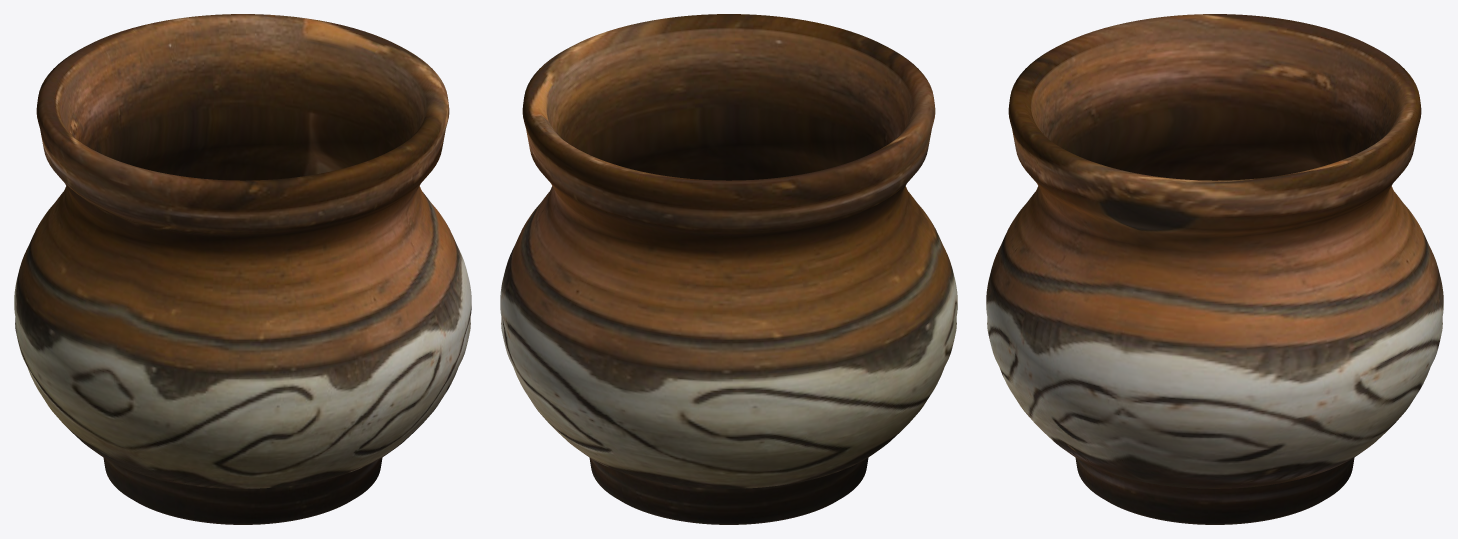
The model's file is pote_23_06_web.glb.
3 views of the same model, side by side, from view 1: azimuth 30°, elevation 25°; view 2: azimuth 150°, elevation 25°; view 3: azimuth 270°, elevation 25° (orthographic).
Parts seen in each view (by area): view 1: Pote_Ceramica_Pintada; view 2: Pote_Ceramica_Pintada; view 3: Pote_Ceramica_Pintada.
Part boxes in pixels (x1,y1,x2,y2): Pote_Ceramica_Pintada: (14, 14, 471, 524); Pote_Ceramica_Pintada: (500, 14, 957, 524); Pote_Ceramica_Pintada: (986, 14, 1443, 524).
Bounding box in the file's own units: 0.1807 × 0.1615 × 0.1807.
Materials: 1 (1 with a texture image).
